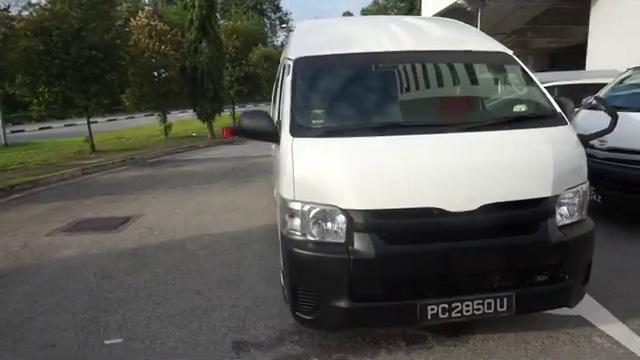Van: (257, 4, 605, 337)
